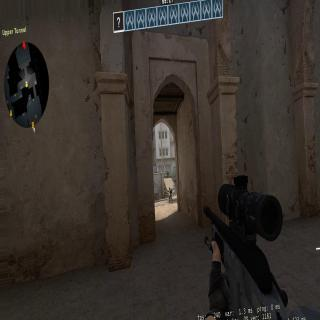CT-Body: (167, 187, 173, 200), (166, 170, 169, 178)
CT-Head: (166, 170, 168, 172), (169, 187, 170, 189)
